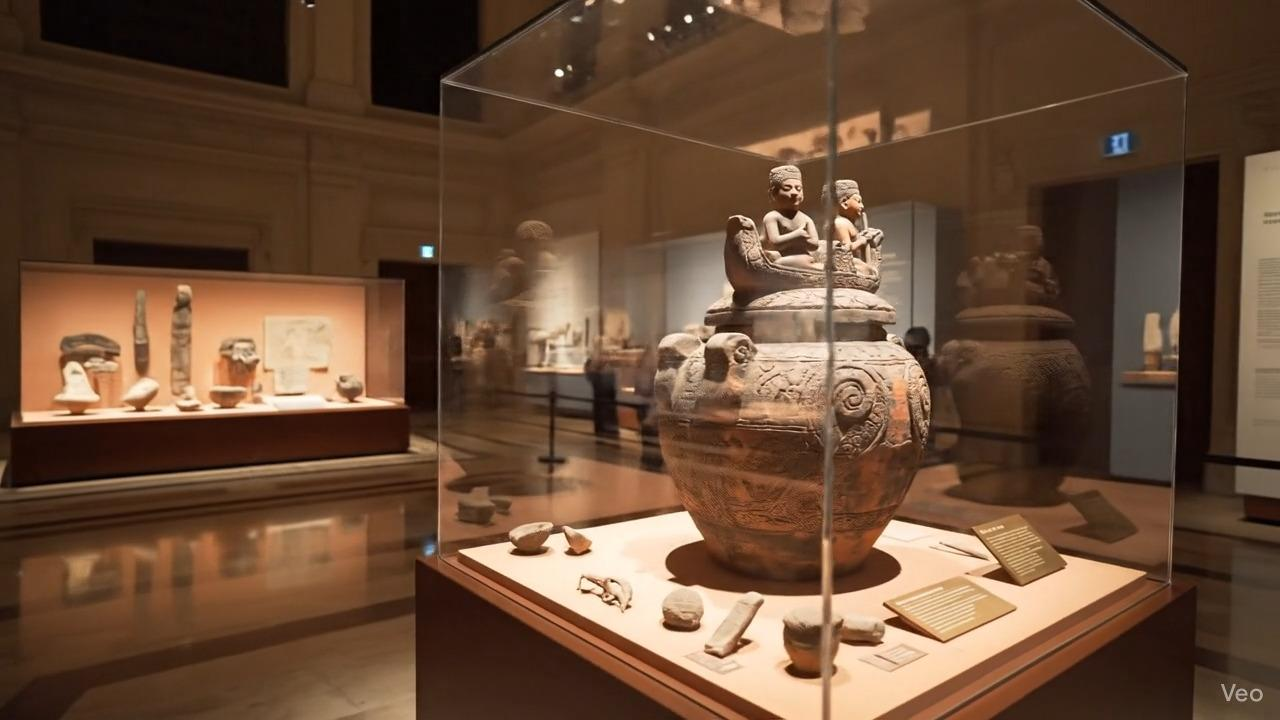manunggul_jar: (641, 129, 966, 591)
